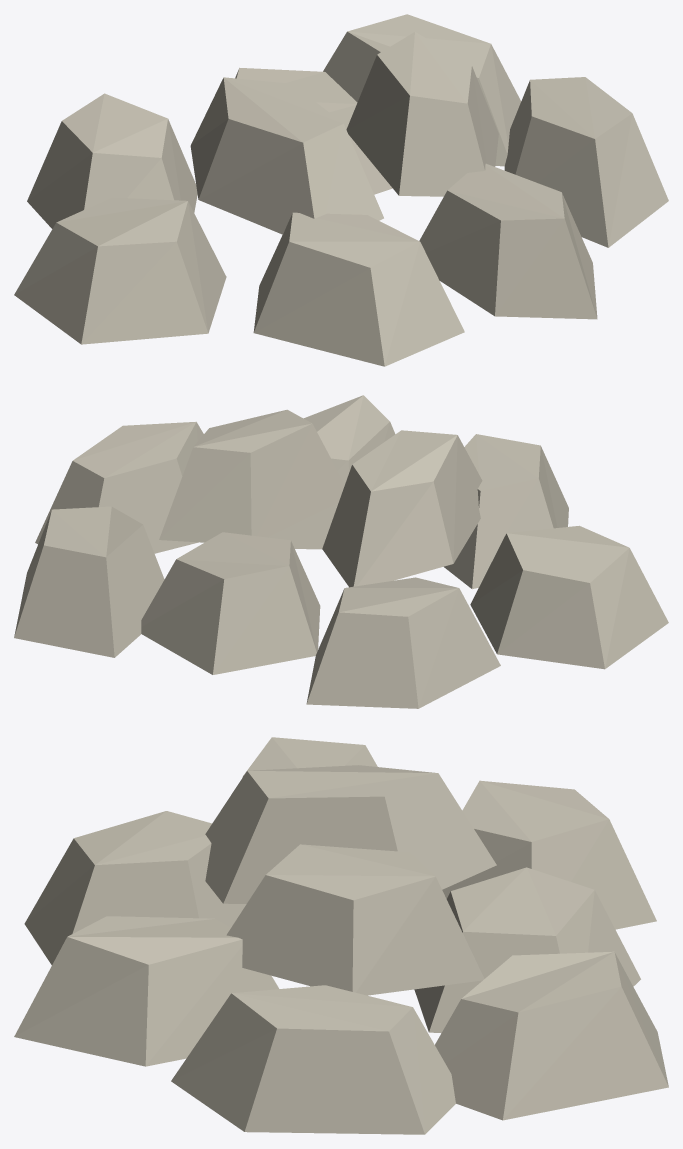
File: item_rm_silver_c.obj
The picture shows the model from 3 angles, top to bottom: view 1: azimuth 30°, elevation 25°; view 2: azimuth 150°, elevation 25°; view 3: azimuth 270°, elevation 25°; orthographic projection. The views are drawn at different scales.
Bounding box in the file's own units: 0.8852 × 0.211 × 0.7603.
